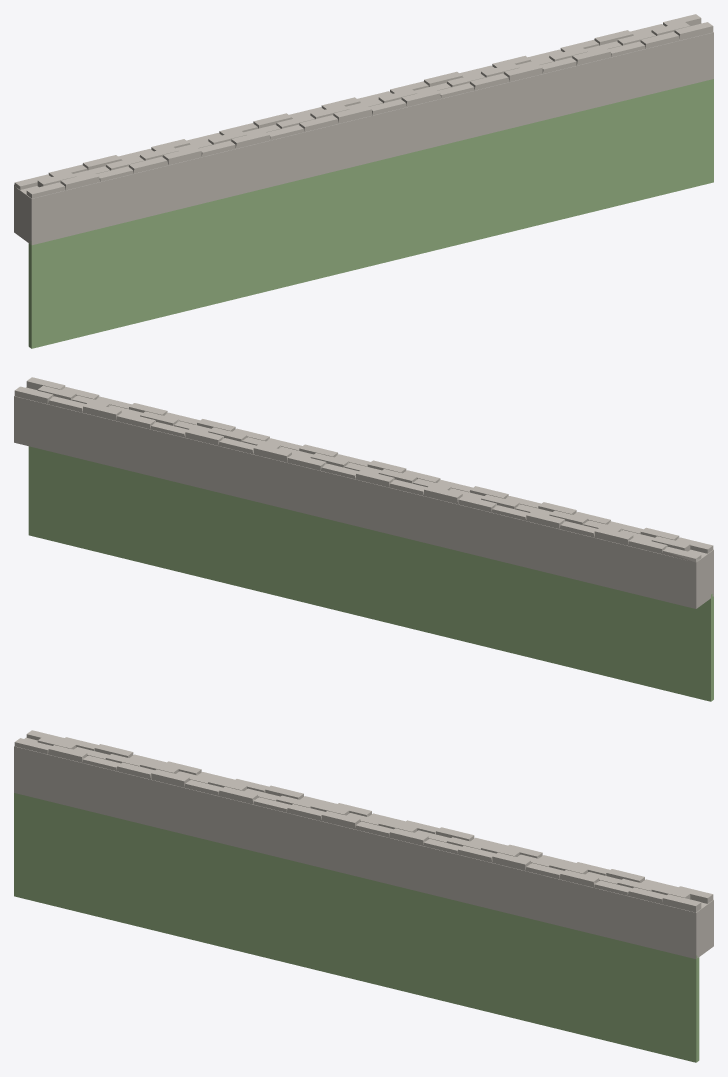
Rendered from r-104-seekonk-granite-seawall.glb.
3 views of the same model, one above another, from view 1: azimuth 30°, elevation 25°; view 2: azimuth 150°, elevation 25°; view 3: azimuth 330°, elevation 25° (orthographic).
Visible parts, largest first — view 1: grass-top, granite-blocks; view 2: grass-top, granite-blocks; view 3: grass-top, granite-blocks.
Boxes of the visible parts, left/top/right/bottom form: grass-top: left=28, top=79, right=713, bottom=348; granite-blocks: left=14, top=14, right=713, bottom=245; grass-top: left=28, top=446, right=713, bottom=701; granite-blocks: left=14, top=377, right=713, bottom=608; grass-top: left=14, top=793, right=699, bottom=1062; granite-blocks: left=14, top=730, right=713, bottom=958.
Size of the model in its own units: 40000 by 8760 by 1802.
